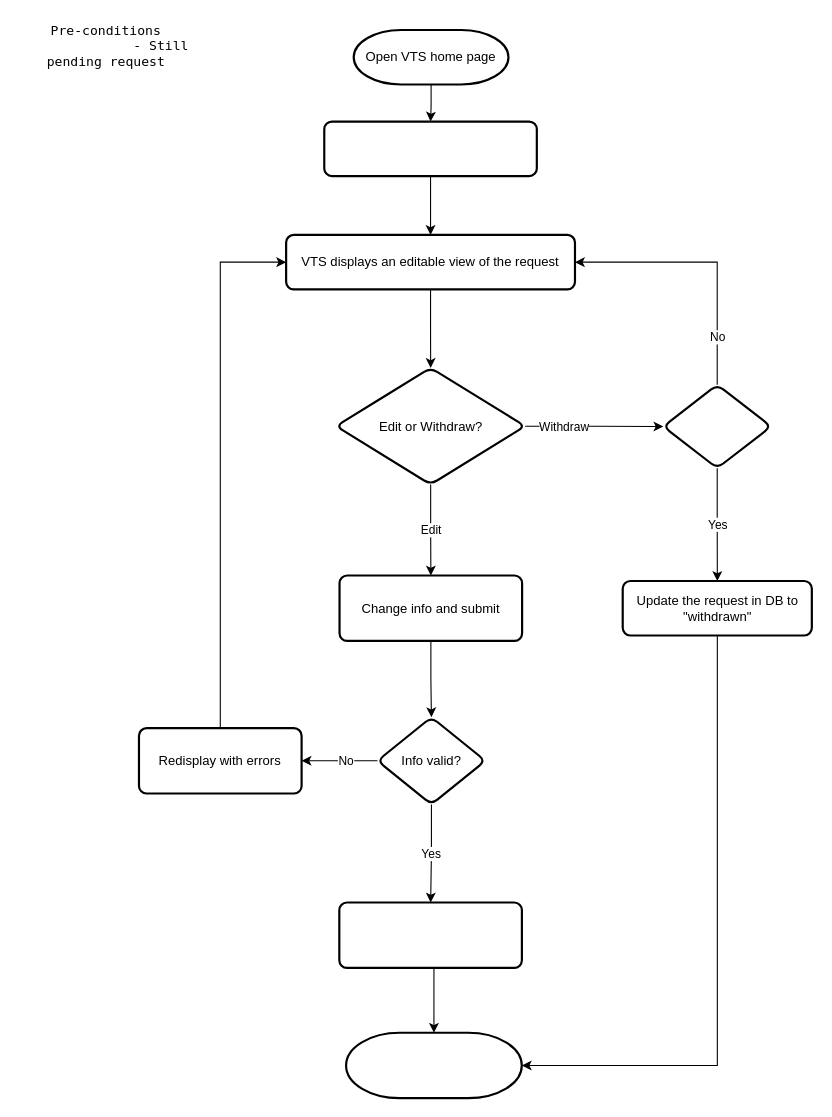
Image size: 832x1117. Some labels were removed from this diagram. The shapes that lost their labels are listed below. From the top down, each one's centre as x and y in pixels, then its label:
point 430,148: Edit Pending Request
point 717,426: Confirm?
point 430,934: Save changes to DB
point 433,1065: Return to VTS home page
